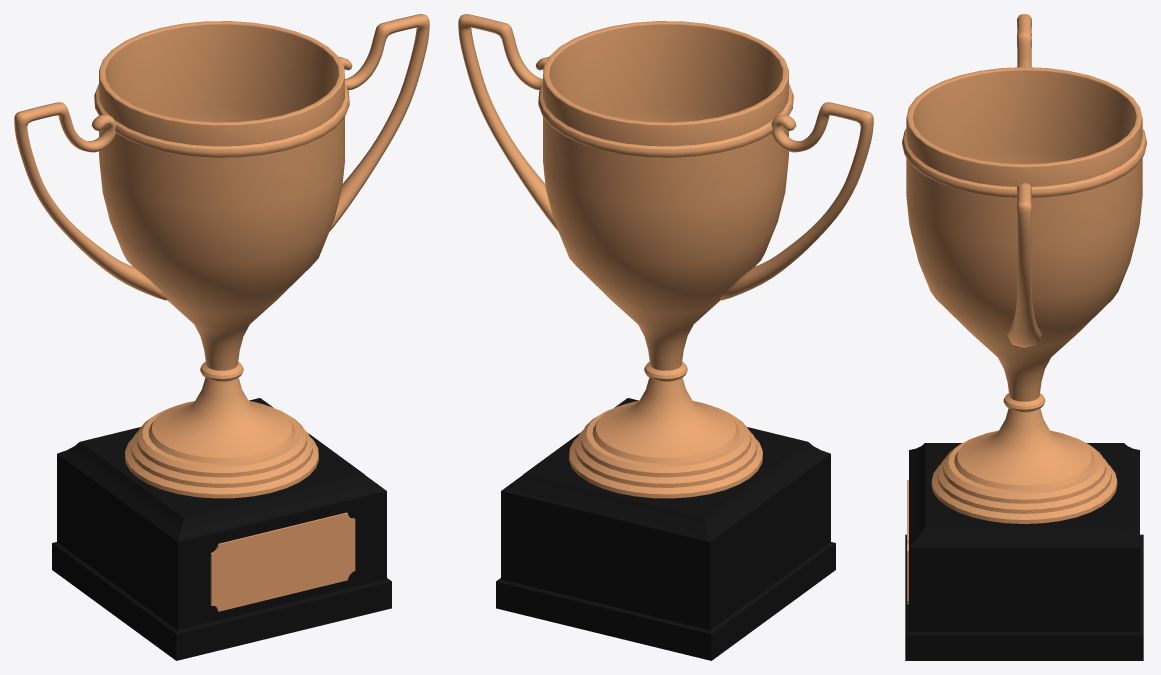
Rendered from trophy_2.glb.
3 views of the same model, side by side, from view 1: azimuth 30°, elevation 25°; view 2: azimuth 150°, elevation 25°; view 3: azimuth 270°, elevation 25° (orthographic). The views are drawn at different scales.
Visible parts, largest first — view 1: Cylinder, Cube, Cube.002, Cube.001; view 2: Cylinder, Cube, Cube.002; view 3: Cylinder, Cube, Cube.002.
Part boxes in pixels (left/top/right/bottom): Cylinder: left=94, top=21, right=349, bottom=498; Cube: left=52, top=398, right=391, bottom=660; Cube.002: left=14, top=14, right=429, bottom=300; Cube.001: left=210, top=512, right=355, bottom=611; Cylinder: left=538, top=21, right=793, bottom=498; Cube: left=496, top=398, right=835, bottom=660; Cube.002: left=458, top=14, right=873, bottom=300; Cylinder: left=902, top=67, right=1146, bottom=523; Cube: left=905, top=443, right=1143, bottom=660; Cube.002: left=1007, top=14, right=1041, bottom=347.
Bounding box in the file's own units: 312 × 380 × 168.
